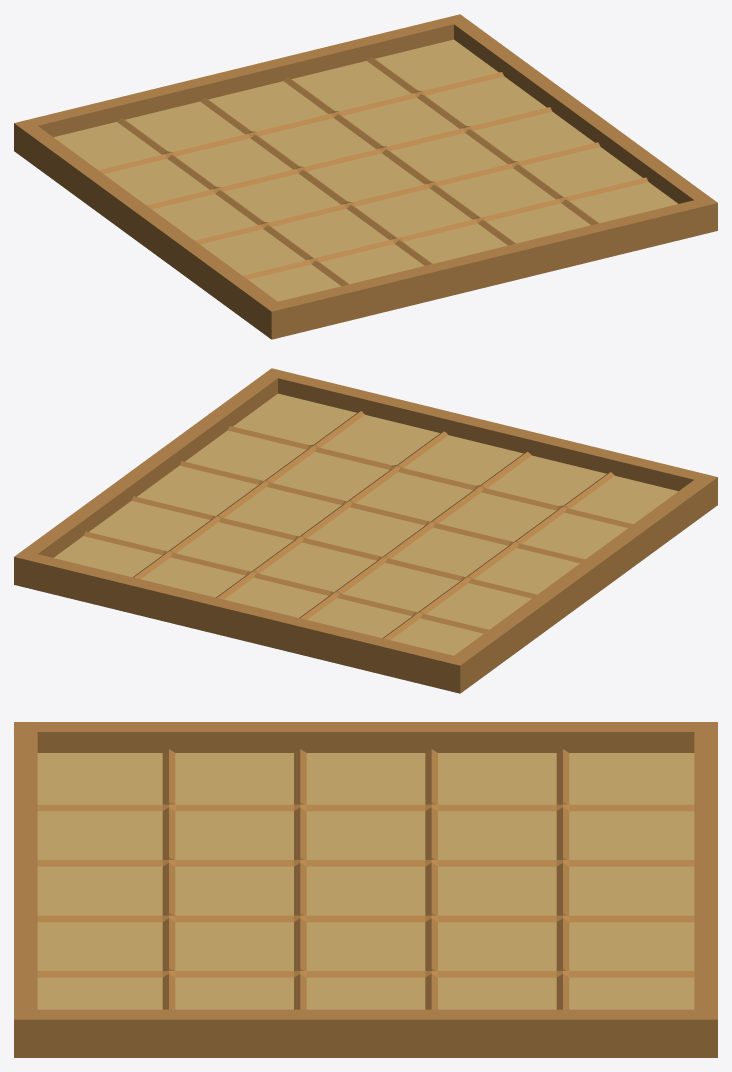
Rendered from block_board.fbx.
3 renders of one model, top to bottom at view 1: azimuth 30°, elevation 25°; view 2: azimuth 150°, elevation 25°; view 3: azimuth 270°, elevation 25°, orthographic. The views are drawn at different scales.
Parts seen in each view (by area): view 1: Board; view 2: Board; view 3: Board.
Boxes of the visible parts, bbox=[...] form: Board: bbox=[14, 14, 717, 339]; Board: bbox=[14, 368, 717, 693]; Board: bbox=[14, 722, 717, 1057].
Size of the model in its own units: 131 by 7.86 by 131.
